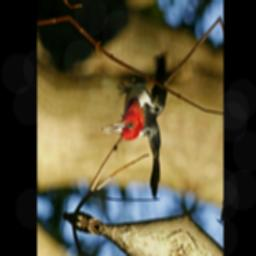Woodpecker: (90, 35, 185, 209)
